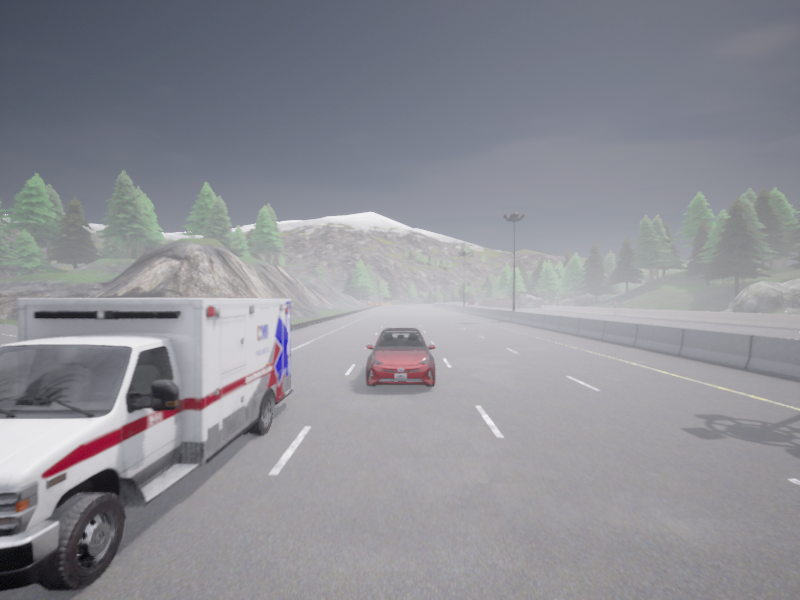vehicle: (0, 298, 293, 591), (366, 327, 435, 386), (468, 298, 475, 304), (453, 303, 456, 304)
